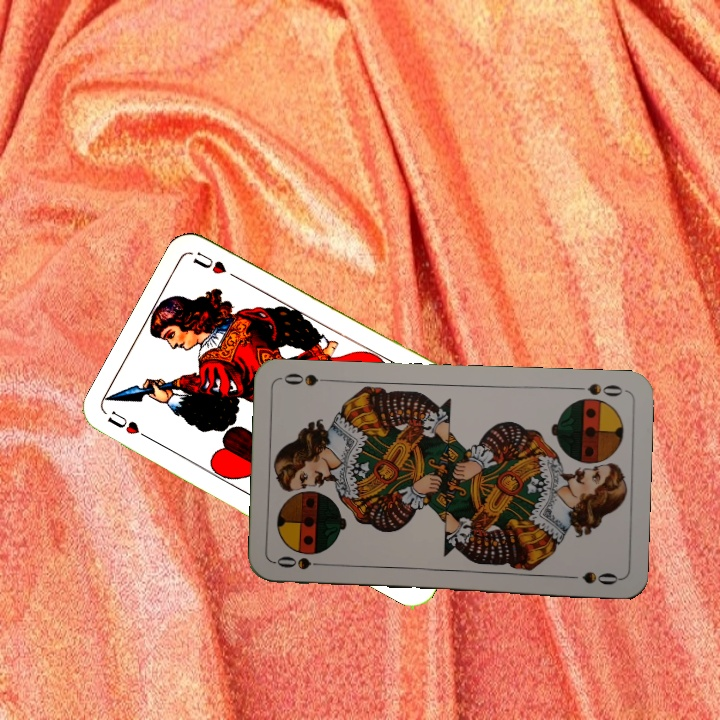HU: (103, 407, 158, 445)
SO: (273, 552, 332, 572), (569, 379, 626, 399)
